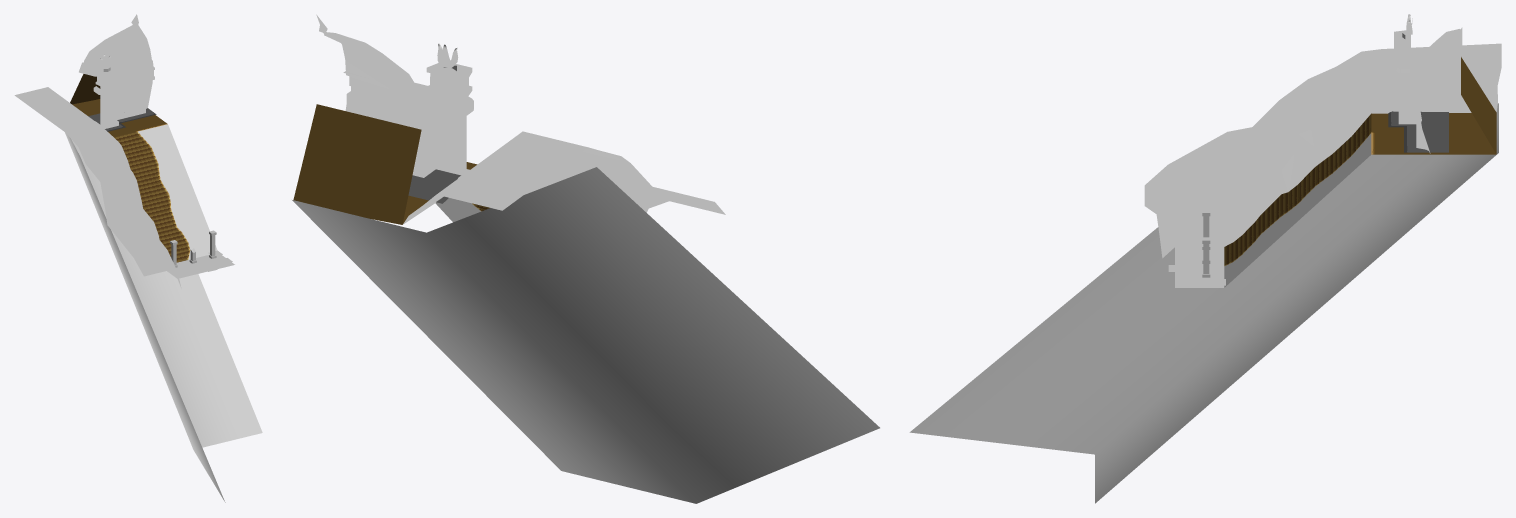
The model's file is MTVRD1-1.obj.
3 renders of one model, left to right at view 1: azimuth 30°, elevation 25°; view 2: azimuth 150°, elevation 25°; view 3: azimuth 270°, elevation 25°, orthographic. The views are drawn at different scales.
Parts seen in each view (by area): view 1: pk_l_iwa6_1_lay0_QUADS_VisGroup0, pk_l_iwa7_1_lay0_QUADS_VisGroup0, out32_u_kaida_3_lay0_QUADS_VisGroup0, out32_u_k2_1_lay0_QUADS_VisGroup0, pk_l_yane_1_lay0_QUADS_VisGroup0, pk_l_le2_3_lay0_QUADS_VisGroup0, pk_l_iwa6_1_lay0_TRIS_VisGroup0, pk_l_mado4_3_lay0_TRIS_VisGroup0, pk_l_kabe_3_lay0_QUADS_VisGroup0, pk_l_mado3_3_lay0_QUADS_VisGroup0, pk_l_yane2_1_lay0_QUADS_VisGroup0, out32_u_k2_1_lay0_TRIS_VisGroup0 (+3 smaller); view 2: pk_l_iwa6_1_lay0_QUADS_VisGroup0, out32_u_kaida_3_lay0_QUADS_VisGroup0, pk_l_iwa7_1_lay0_QUADS_VisGroup0, out32_u_kaida_3_lay0_TRIS_VisGroup0, pk_l_kabe_3_lay0_QUADS_VisGroup0, pk_l_yane_1_lay0_QUADS_VisGroup0, pk_l_le2_3_lay0_QUADS_VisGroup0, pk_l_mado3_3_lay0_QUADS_VisGroup0, h_kage_3_lay0_QUADS_VisGroup0, pk_l_iwa6_1_lay0_TRIS_VisGroup0, pk_l_mado4_3_lay0_TRIS_VisGroup0; view 3: pk_l_iwa6_1_lay0_QUADS_VisGroup0, pk_l_iwa7_1_lay0_QUADS_VisGroup0, pk_l_iwa6_1_lay0_TRIS_VisGroup0, out32_u_kaida_3_lay0_QUADS_VisGroup0, out32_u_k2_1_lay0_QUADS_VisGroup0, h_kage_3_lay0_QUADS_VisGroup0, pk_l_le2_3_lay0_QUADS_VisGroup0, pk_l_yane_1_lay0_QUADS_VisGroup0, out32_u_k4_1_lay0_QUADS_VisGroup0.
Boxes of the visible parts, x1,y1,x2,y2 form: pk_l_iwa6_1_lay0_QUADS_VisGroup0: (65, 132, 262, 502); pk_l_iwa7_1_lay0_QUADS_VisGroup0: (14, 87, 172, 276); out32_u_kaida_3_lay0_QUADS_VisGroup0: (70, 74, 190, 262); out32_u_k2_1_lay0_QUADS_VisGroup0: (138, 124, 217, 259); pk_l_yane_1_lay0_QUADS_VisGroup0: (83, 22, 151, 66); pk_l_le2_3_lay0_QUADS_VisGroup0: (93, 66, 154, 94); pk_l_iwa6_1_lay0_TRIS_VisGroup0: (100, 125, 175, 268); pk_l_mado4_3_lay0_TRIS_VisGroup0: (114, 83, 152, 115); pk_l_kabe_3_lay0_QUADS_VisGroup0: (94, 85, 117, 124); pk_l_mado3_3_lay0_QUADS_VisGroup0: (114, 80, 152, 115); pk_l_yane2_1_lay0_QUADS_VisGroup0: (79, 60, 153, 76); out32_u_k2_1_lay0_TRIS_VisGroup0: (151, 124, 209, 259); pk_l_iwa6_1_lay0_QUADS_VisGroup0: (292, 164, 879, 503); out32_u_kaida_3_lay0_QUADS_VisGroup0: (317, 104, 489, 224); pk_l_iwa7_1_lay0_QUADS_VisGroup0: (437, 131, 725, 214); out32_u_kaida_3_lay0_TRIS_VisGroup0: (293, 104, 470, 213); pk_l_kabe_3_lay0_QUADS_VisGroup0: (430, 84, 473, 171); pk_l_yane_1_lay0_QUADS_VisGroup0: (319, 25, 423, 121); pk_l_le2_3_lay0_QUADS_VisGroup0: (343, 63, 473, 117); pk_l_mado3_3_lay0_QUADS_VisGroup0: (346, 94, 429, 169); h_kage_3_lay0_QUADS_VisGroup0: (408, 169, 460, 203); pk_l_iwa6_1_lay0_TRIS_VisGroup0: (524, 154, 668, 208); pk_l_mado4_3_lay0_TRIS_VisGroup0: (345, 104, 423, 171); pk_l_iwa6_1_lay0_QUADS_VisGroup0: (909, 67, 1501, 503); pk_l_iwa7_1_lay0_QUADS_VisGroup0: (1144, 43, 1501, 205); pk_l_iwa6_1_lay0_TRIS_VisGroup0: (1145, 76, 1371, 246); out32_u_kaida_3_lay0_QUADS_VisGroup0: (1224, 57, 1496, 266); out32_u_k2_1_lay0_QUADS_VisGroup0: (1224, 133, 1371, 287); h_kage_3_lay0_QUADS_VisGroup0: (1388, 111, 1448, 152); pk_l_le2_3_lay0_QUADS_VisGroup0: (1394, 30, 1421, 103); pk_l_yane_1_lay0_QUADS_VisGroup0: (1417, 29, 1462, 88); out32_u_k4_1_lay0_QUADS_VisGroup0: (1175, 266, 1224, 287).
Bounding box in the file's own units: 362 × 1029 × 1159.
